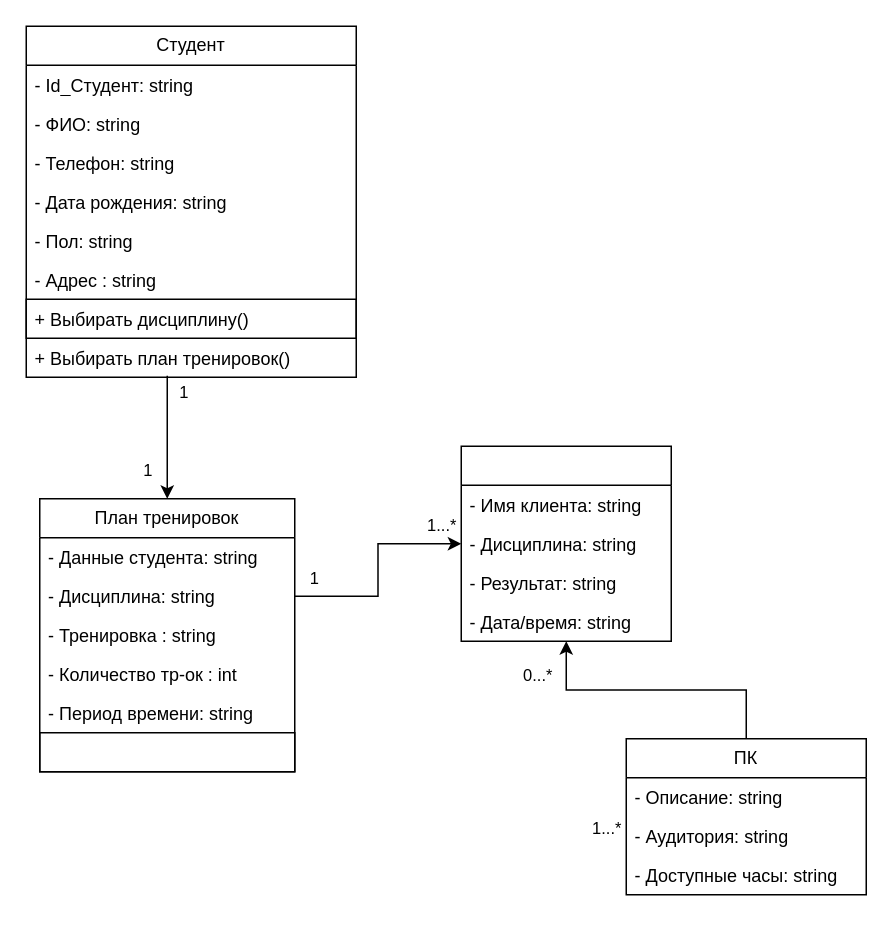
Image size: 893x926. Some labels were removed from this diagram. The box of each missing label's shape, as (x1, y1, x2, y2) in pixels:
+ Изменить время(): (38, 731, 295, 772)
Тренировка: (460, 445, 671, 641)
